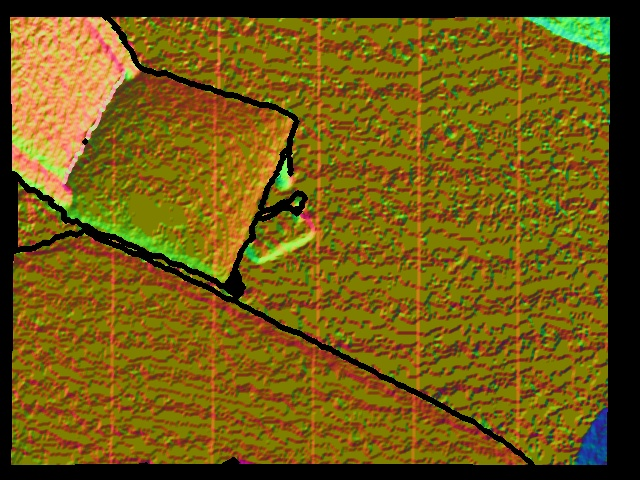station: (244, 192, 316, 264)
